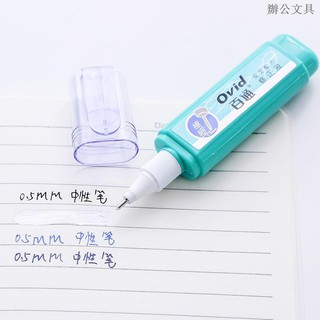Correction_fluid: (107, 30, 320, 215)
